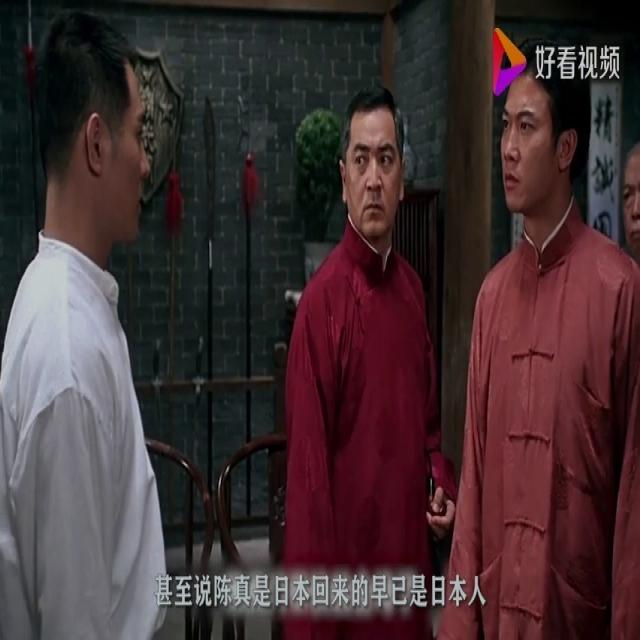non-fight: (438, 60, 639, 639), (0, 0, 178, 639), (261, 76, 454, 637)
